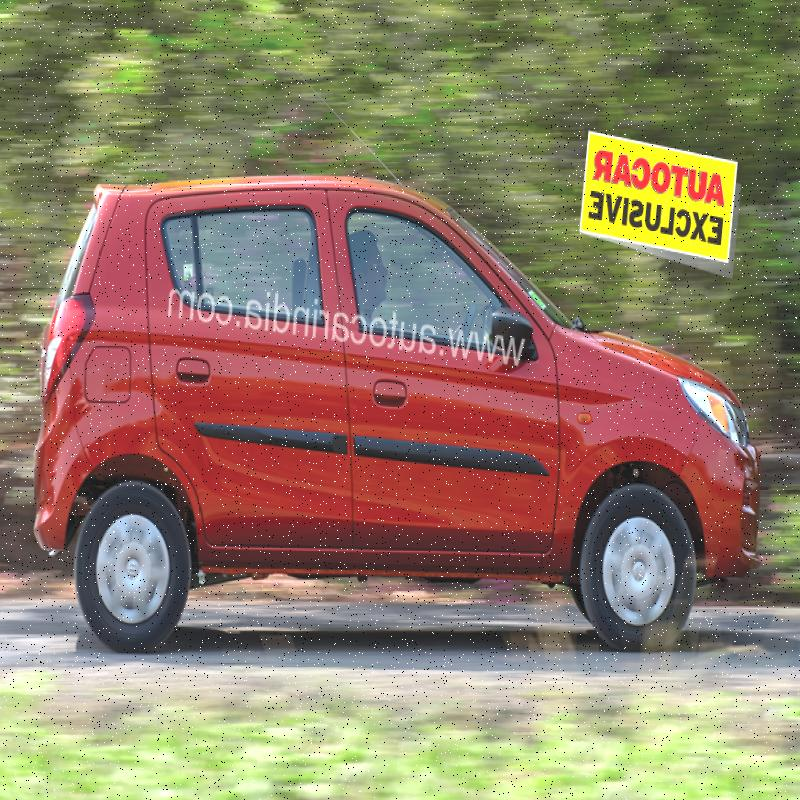car: (43, 145, 772, 651)
